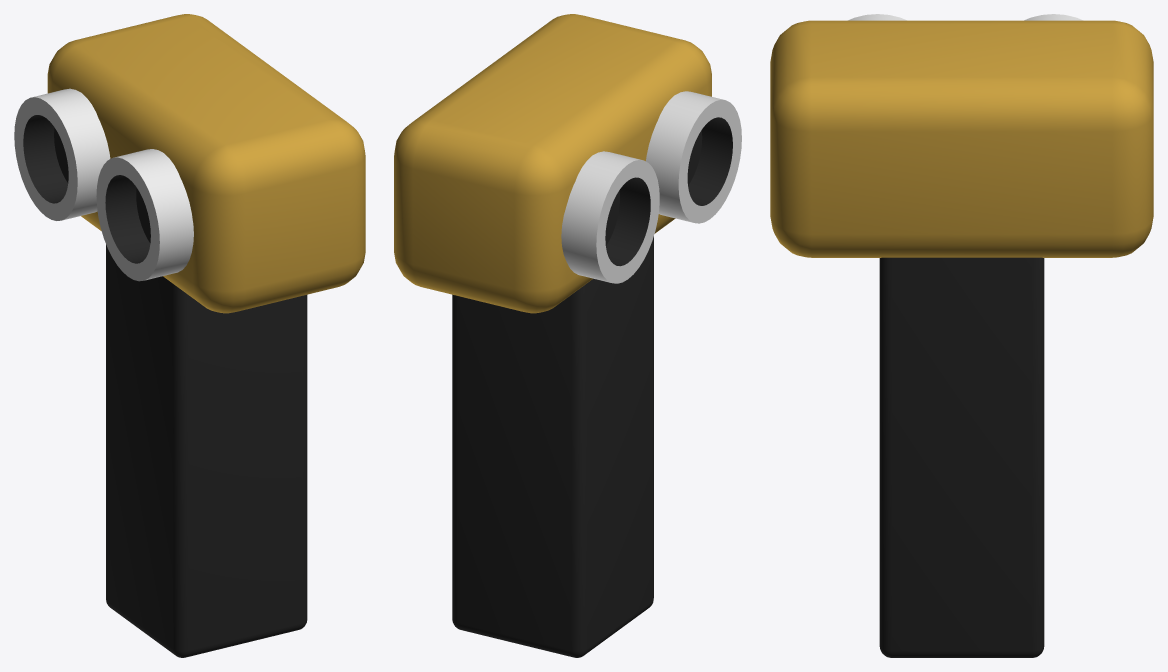
Rendered from HandsDispencer.fbx.
The picture shows the model from 3 angles, left to right: view 1: azimuth 30°, elevation 25°; view 2: azimuth 150°, elevation 25°; view 3: azimuth 270°, elevation 25°; orthographic projection. The views are drawn at different scales.
Visible parts, largest first — view 1: Cube, Cube_1, Cylinder, Cylinder_3, Cylinder_4, Cylinder_2; view 2: Cube, Cube_1, Cylinder_3, Cylinder, Cylinder_4, Cylinder_2; view 3: Cube_1, Cube.
Part boxes in pixels (x1,y1,x2,y2): Cube: (106, 244, 307, 657); Cube_1: (47, 14, 365, 313); Cylinder: (96, 149, 193, 281); Cylinder_3: (14, 88, 110, 220); Cylinder_4: (23, 115, 68, 203); Cylinder_2: (105, 175, 150, 263); Cube: (452, 236, 653, 657); Cube_1: (394, 14, 711, 313); Cylinder_3: (561, 151, 659, 283); Cylinder: (646, 91, 741, 223); Cylinder_4: (605, 177, 650, 266); Cylinder_2: (687, 117, 732, 205); Cube_1: (770, 20, 1153, 257); Cube: (879, 257, 1044, 657).
Bounding box in the file's own units: 60.59 × 154 × 92.98.
